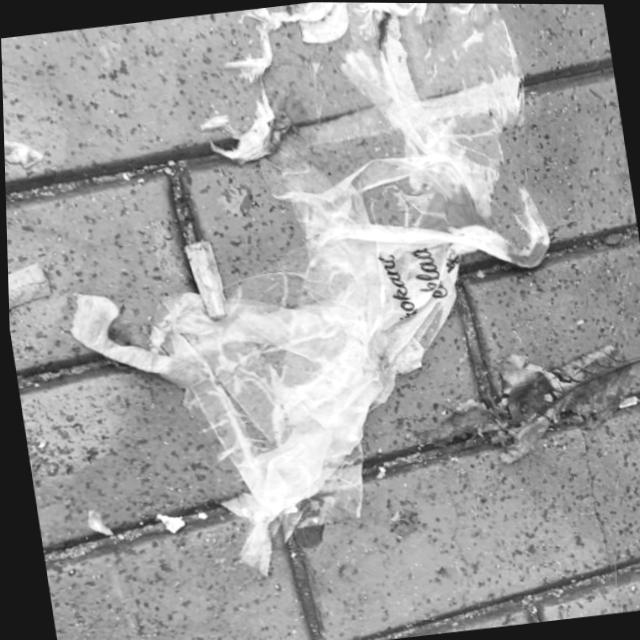Paper: (98, 1, 592, 591)
